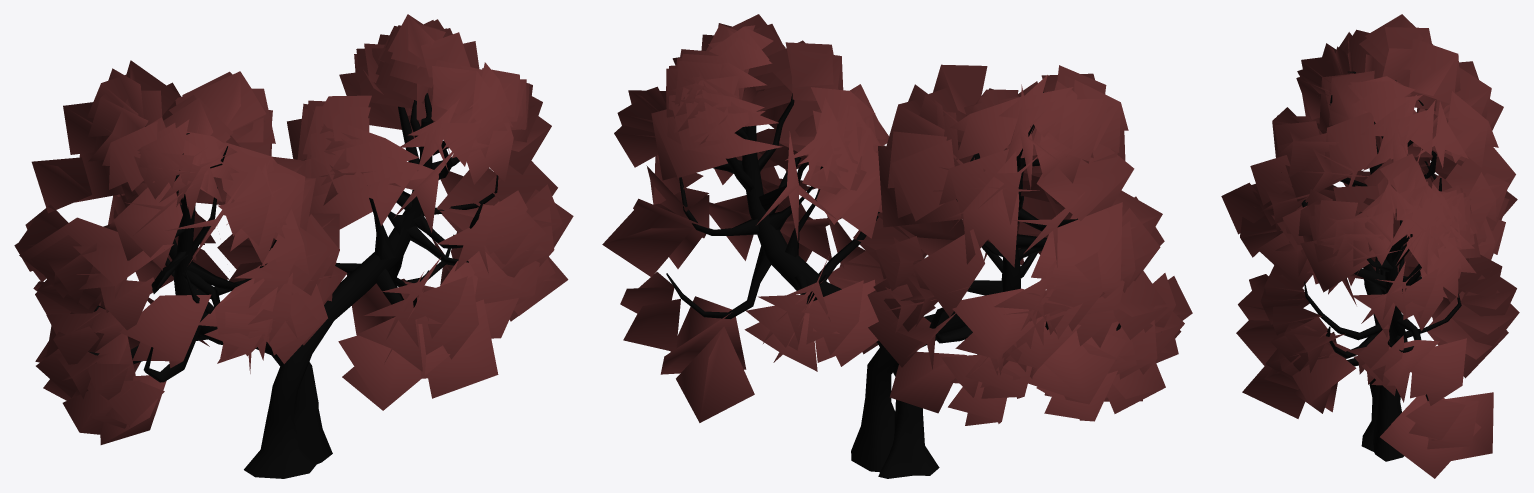
The model's file is MESH_JapaneseBlack_01.fbx.
3 renders of one model, left to right at view 1: azimuth 30°, elevation 25°; view 2: azimuth 150°, elevation 25°; view 3: azimuth 270°, elevation 25°, orthographic. The views are drawn at different scales.
Visible parts, largest first — view 1: Mesh_01JapaneseBlackLOD0; view 2: Mesh_01JapaneseBlackLOD0; view 3: Mesh_01JapaneseBlackLOD0.
Part boxes in pixels (x1=…): Mesh_01JapaneseBlackLOD0: x1=14, y1=14, x2=573, y2=478; Mesh_01JapaneseBlackLOD0: x1=602, y1=14, x2=1192, y2=478; Mesh_01JapaneseBlackLOD0: x1=1221, y1=14, x2=1519, y2=478.
Size of what is drawn, in the model's own units: 1286 by 1006 by 765.
